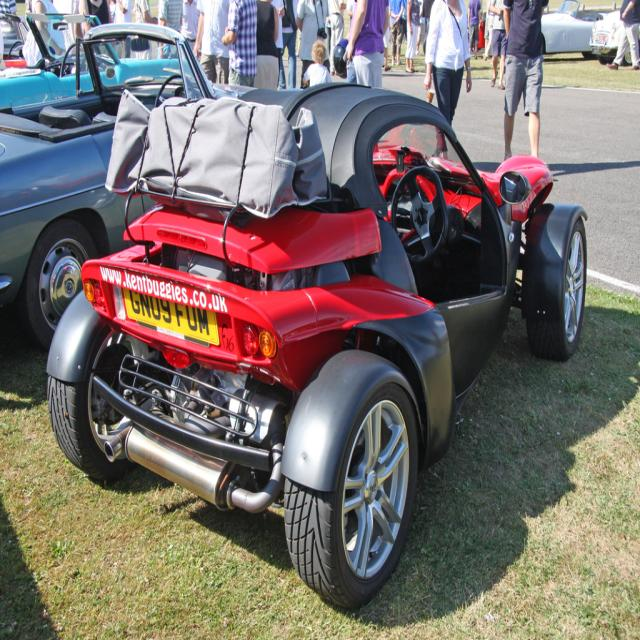car: (48, 78, 591, 615)
